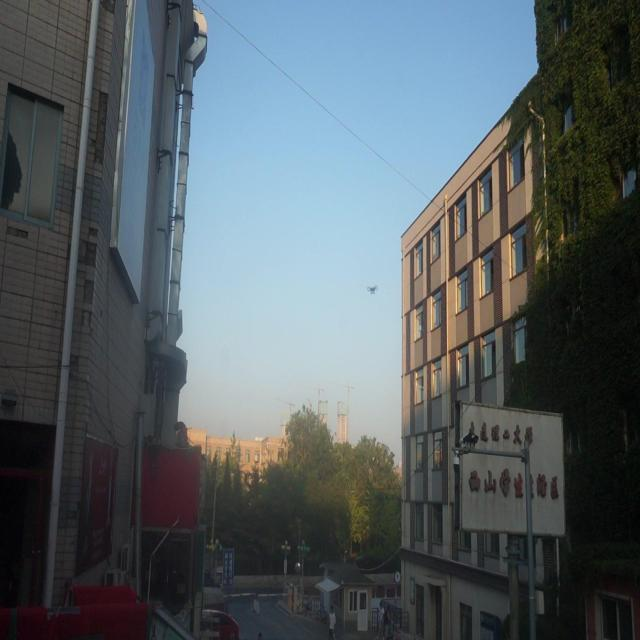UAV: (366, 285, 379, 295)
